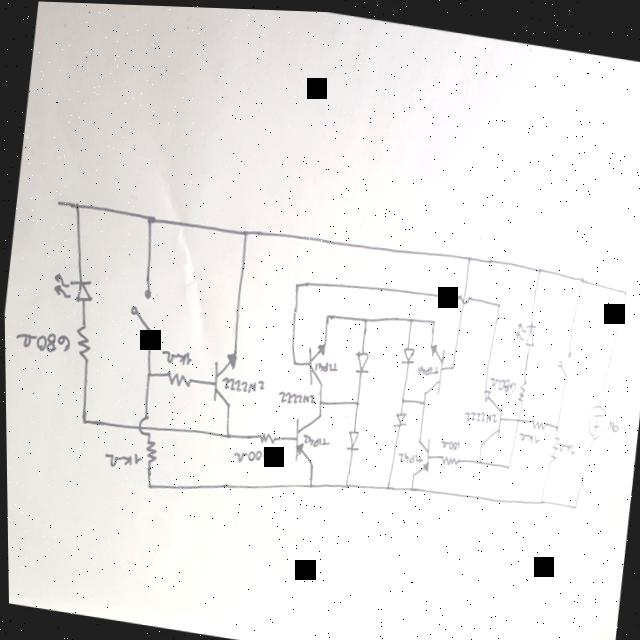crossover: (133, 410, 152, 435), (456, 285, 470, 302)
diode: (46, 267, 96, 306), (510, 312, 538, 346), (348, 346, 370, 374), (341, 420, 361, 450), (398, 338, 416, 363), (388, 404, 406, 428)
junction: (69, 196, 83, 213), (143, 210, 154, 226), (77, 411, 87, 426), (240, 222, 249, 237), (291, 277, 301, 289), (143, 365, 151, 379), (320, 308, 330, 319), (339, 476, 348, 488), (288, 352, 296, 365), (304, 475, 312, 488), (381, 477, 390, 488), (360, 309, 367, 323), (143, 478, 151, 490), (427, 311, 435, 323), (577, 269, 585, 281), (352, 394, 359, 406), (221, 430, 231, 438), (396, 392, 404, 401), (534, 259, 540, 271), (620, 280, 626, 292), (447, 358, 454, 368), (473, 452, 480, 462), (315, 394, 322, 403), (502, 457, 509, 466), (569, 497, 576, 506), (464, 249, 470, 259), (405, 481, 412, 489), (513, 410, 519, 419), (536, 492, 542, 501), (406, 313, 412, 321), (494, 296, 499, 305), (419, 395, 424, 403), (552, 418, 557, 426)
resistor: (69, 318, 92, 365), (161, 366, 192, 391), (140, 435, 158, 466), (544, 428, 558, 462), (436, 448, 460, 466), (253, 426, 277, 444), (514, 372, 526, 403), (526, 411, 546, 427)
source: (581, 395, 607, 438)
switch: (121, 277, 157, 333), (552, 339, 571, 380)
text: (11, 323, 71, 358), (218, 368, 264, 394), (101, 444, 139, 470), (230, 440, 265, 465), (275, 383, 314, 404), (157, 344, 192, 365), (461, 403, 496, 420), (310, 352, 339, 372), (299, 428, 328, 446), (394, 445, 422, 463), (487, 371, 515, 389), (414, 355, 438, 374), (437, 432, 461, 448), (553, 435, 575, 452), (515, 424, 538, 440), (603, 411, 619, 430)
transistor: (204, 342, 240, 412), (471, 381, 505, 447), (287, 408, 322, 464), (417, 338, 444, 390), (301, 336, 327, 383), (407, 430, 432, 473)
